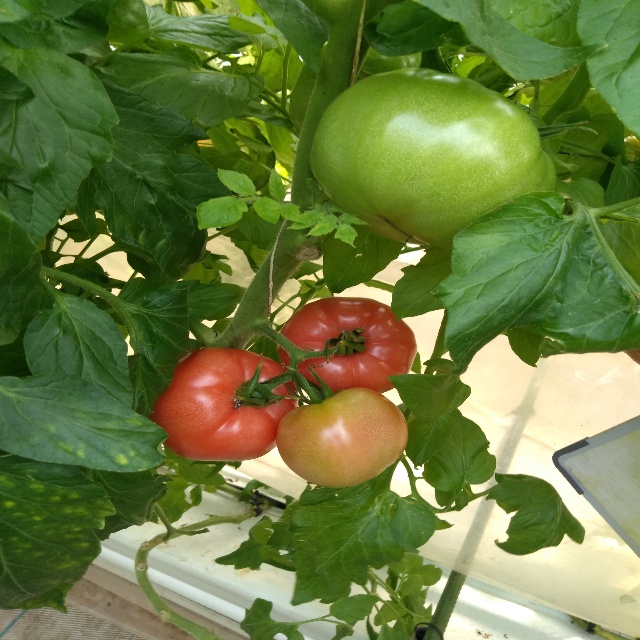b_fully_ripened: (276, 298, 418, 392)
b_green: (309, 68, 555, 248)
b_half_ripened: (149, 347, 300, 461), (276, 388, 408, 488)
